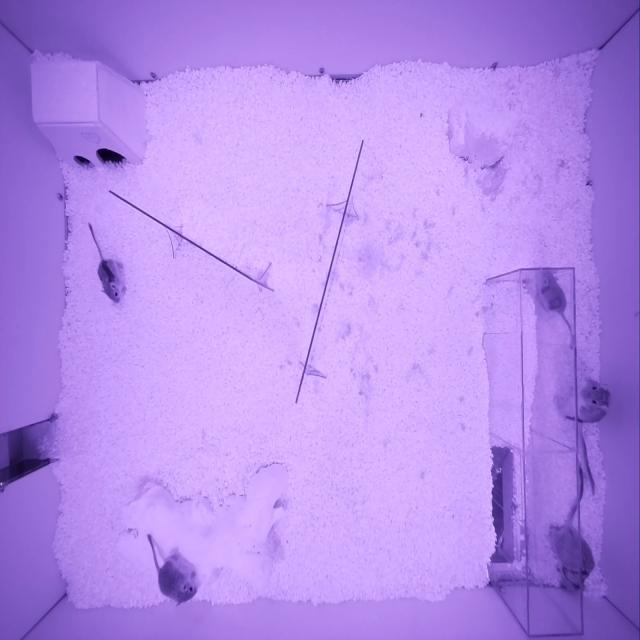adult_back: (552, 379, 609, 423)
adult_front: (544, 525, 594, 592)
pup_fluffy: (158, 547, 198, 607)
pup_spotted: (536, 271, 567, 315)
pup_v_stripe: (98, 259, 124, 303)
